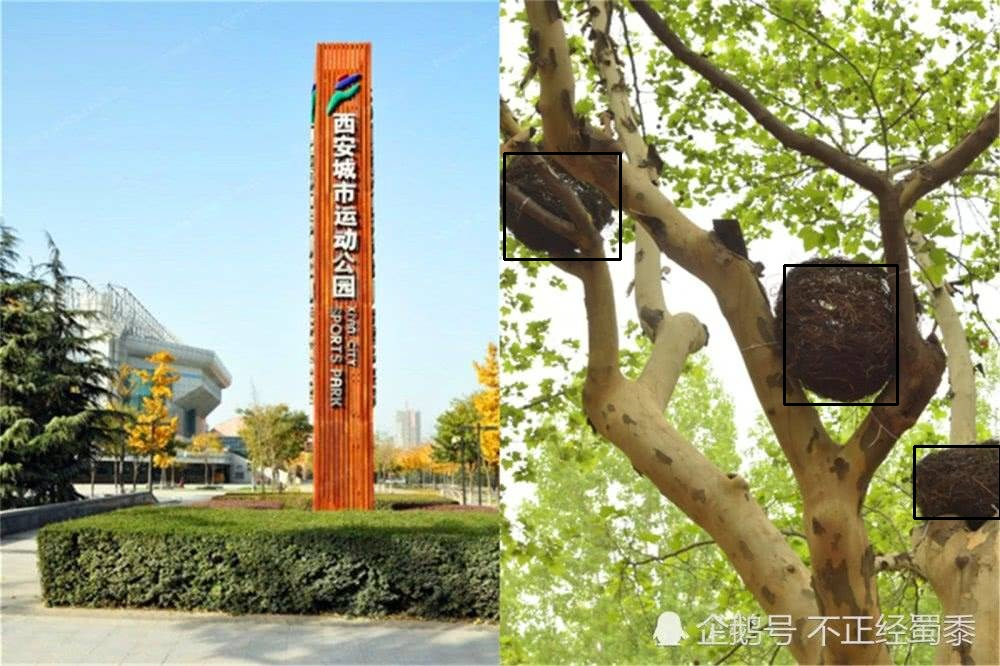bird-nest: (784, 265, 897, 404), (504, 153, 620, 259), (914, 446, 1000, 518)
